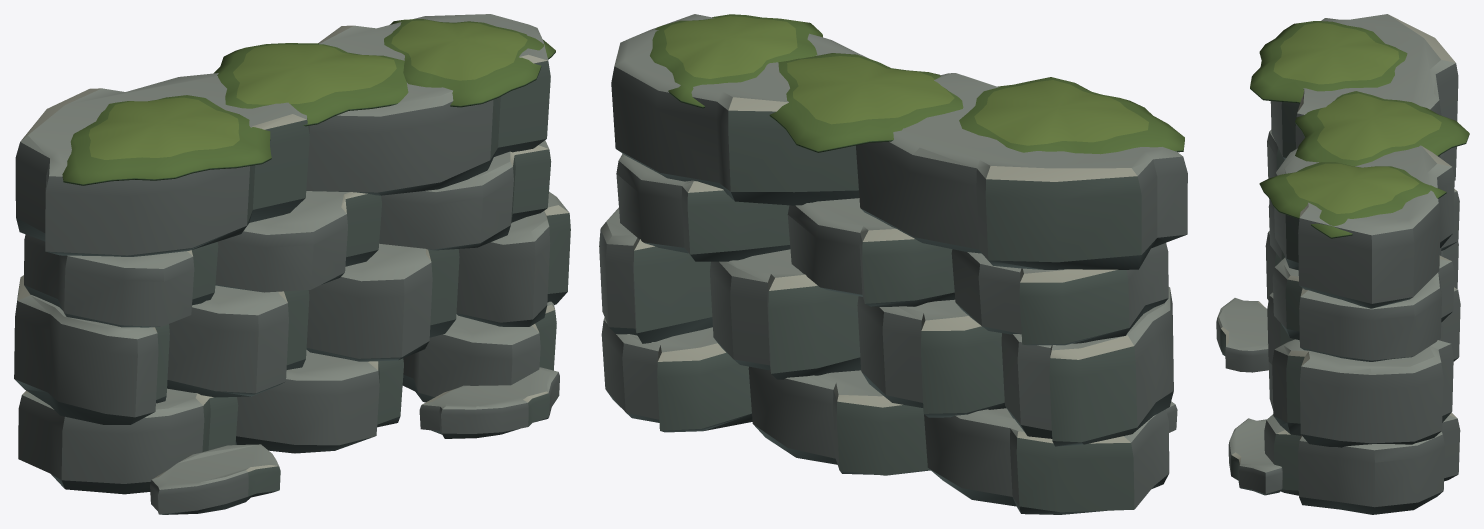
The model's file is fw_cliff_straight.hi.glb.
The picture shows the model from 3 angles, left to right: view 1: azimuth 30°, elevation 25°; view 2: azimuth 150°, elevation 25°; view 3: azimuth 270°, elevation 25°; orthographic projection. The views are drawn at different scales.
Parts seen in each view (by area): view 1: body; view 2: body; view 3: body.
Boxes of the visible parts, left/top/right/bottom form: body: left=14, top=14, right=570, bottom=514; body: left=599, top=14, right=1187, bottom=514; body: left=1216, top=14, right=1469, bottom=514.
Bounding box in the file's own units: 3.36 × 2.08 × 1.6.
